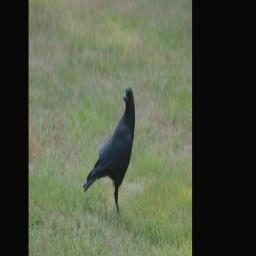Crow: (82, 79, 135, 218)
